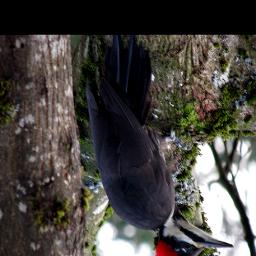Woodpecker: (79, 41, 236, 256)
